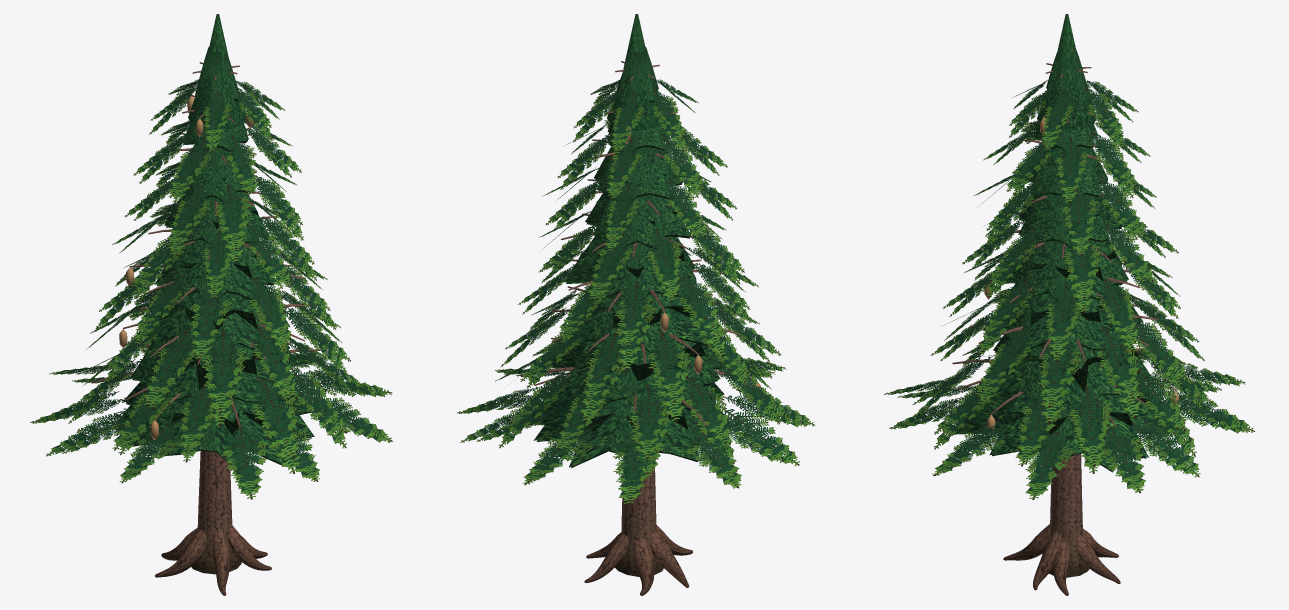
File: tree_fir.glb
3 renders of one model, left to right at view 1: azimuth 30°, elevation 25°; view 2: azimuth 150°, elevation 25°; view 3: azimuth 270°, elevation 25°, orthographic.
Visible parts, largest first — view 1: Leaves, Trunk, Roots, Branches, Fruit; view 2: Leaves, Roots, Trunk, Branches; view 3: Leaves, Roots, Trunk, Branches.
Boxes of the visible parts, bbox=[...] form: Leaves: bbox=[30, 14, 392, 499]; Trunk: bbox=[191, 450, 241, 574]; Roots: bbox=[154, 524, 271, 595]; Branches: bbox=[91, 62, 321, 427]; Fruit: bbox=[119, 96, 321, 439]; Leaves: bbox=[457, 14, 815, 505]; Roots: bbox=[584, 525, 692, 595]; Trunk: bbox=[615, 457, 663, 576]; Branches: bbox=[520, 61, 753, 425]; Leaves: bbox=[884, 14, 1254, 499]; Roots: bbox=[1003, 524, 1120, 595]; Trunk: bbox=[1049, 454, 1089, 577]; Branches: bbox=[952, 63, 1175, 426].
Bounding box in the file's own units: 5.55 × 8.58 × 5.76.
Materials: 3 (2 with a texture image).
